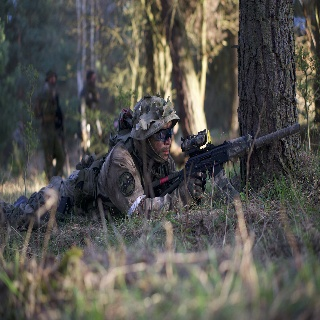rifle: (148, 117, 301, 203)
